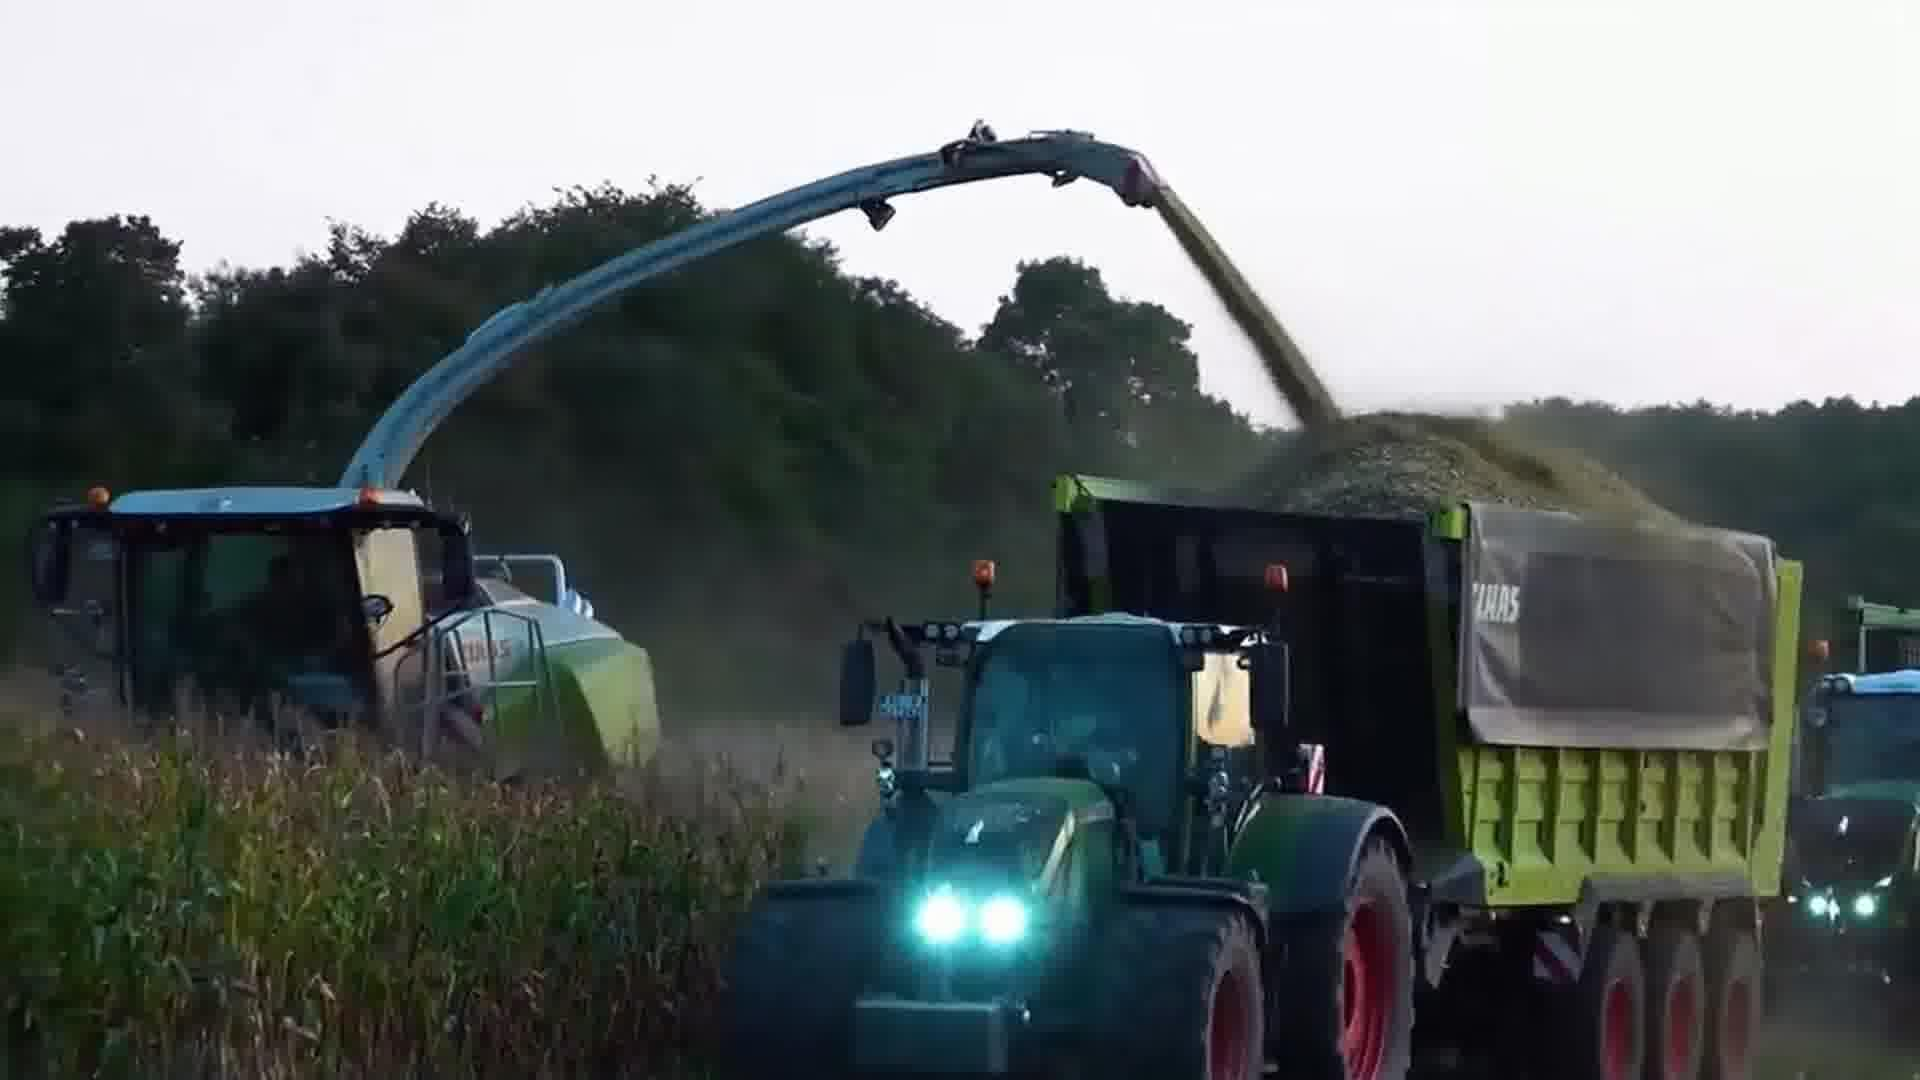combine harvester: (3, 113, 1180, 824)
tractor: (724, 555, 1429, 1080), (1793, 671, 1920, 1039)
trailer: (1039, 468, 1813, 1077)
